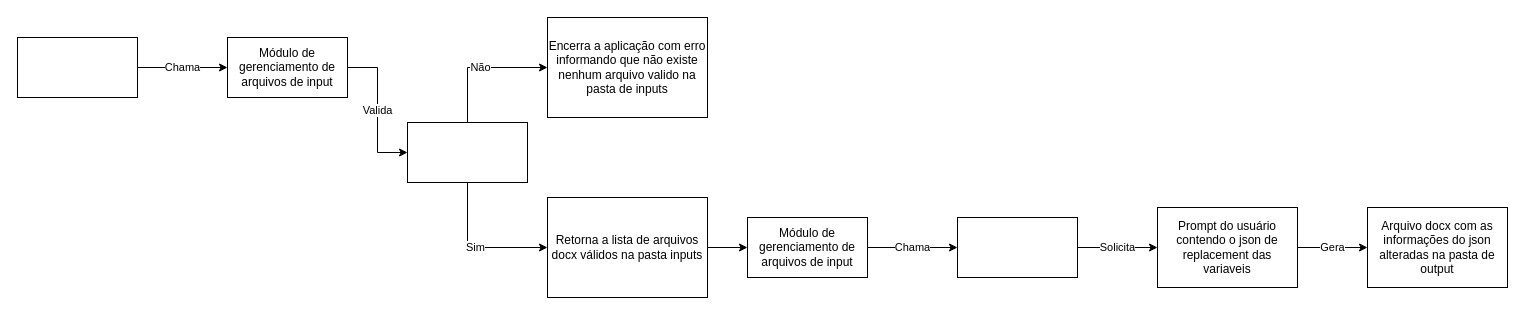
This 1525x315 diagram has some shape labels left out. Here are the shapes that lost their labels. From the top down, the centre of each, then its label:
At pixel 77 67: "templater;js".
At pixel 467 152: "Existe algum arquivo .docx?".
At pixel 1017 247: "Módulo de criação do template".
